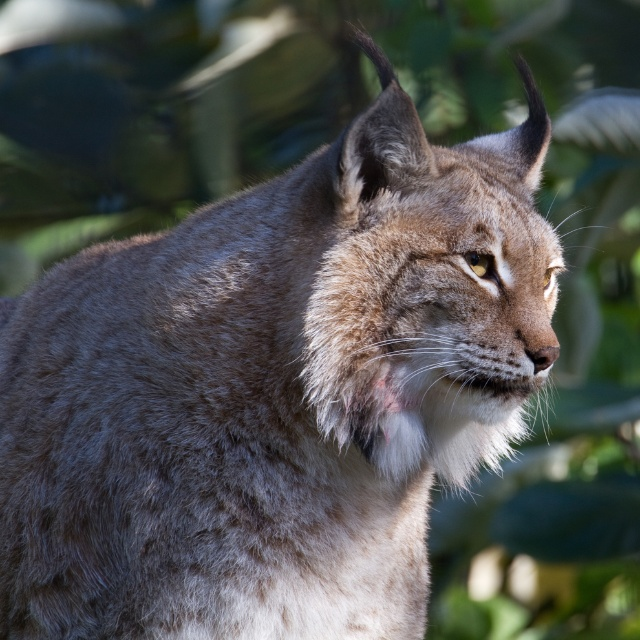Lynx: (0, 17, 611, 640)
